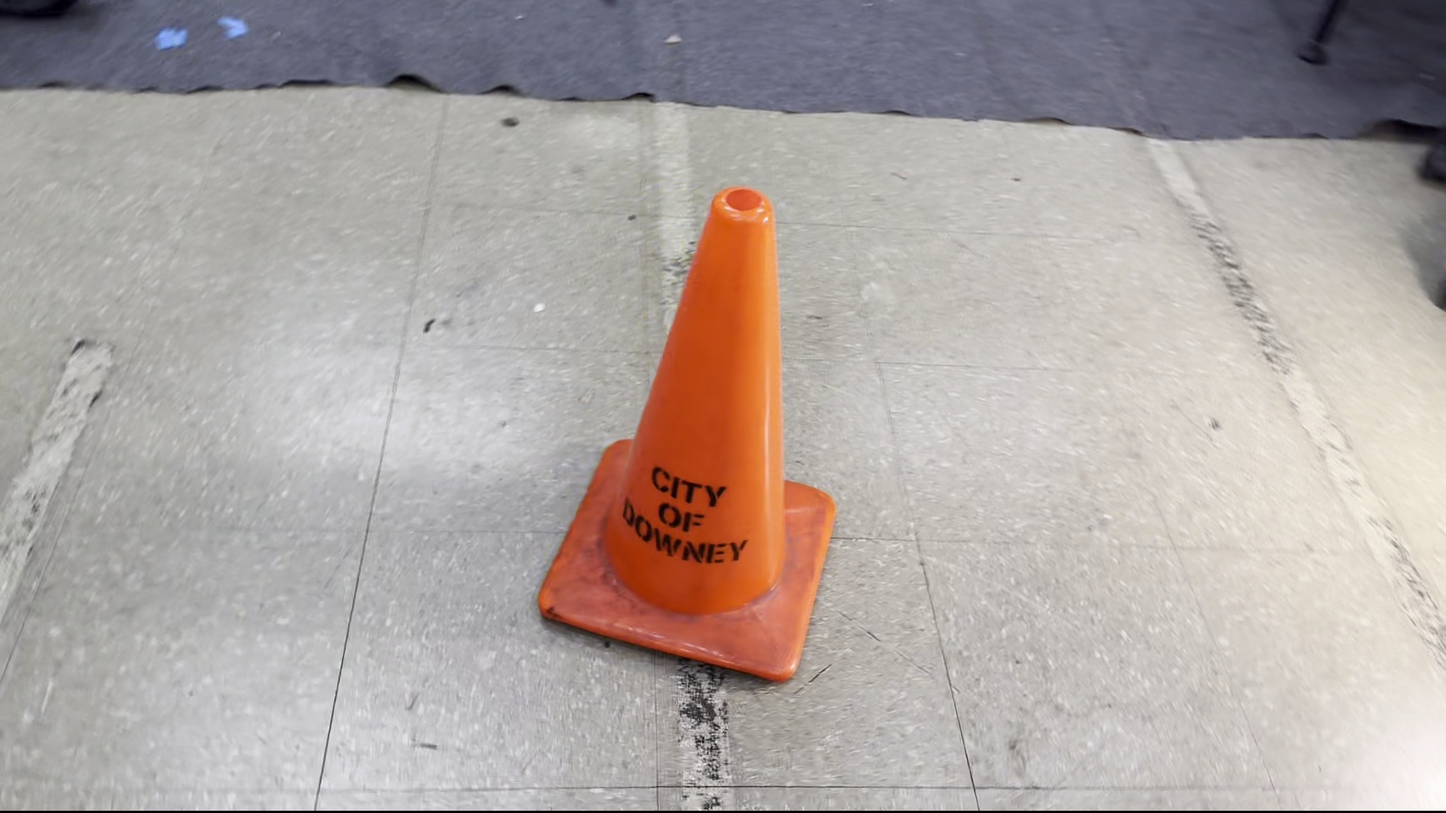traffic_cone: (536, 185, 837, 683)
